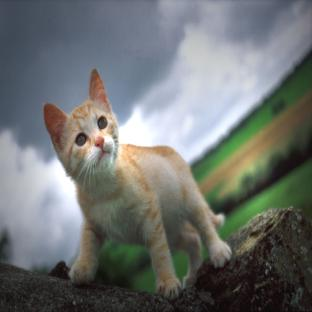Animal: (44, 69, 232, 299)
